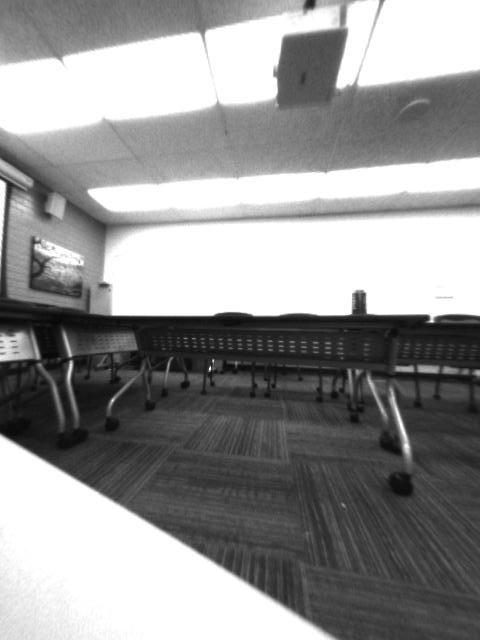can: (345, 283, 372, 320)
